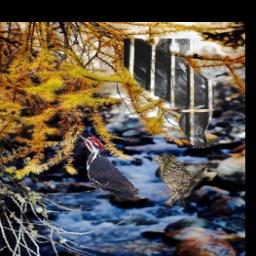Crow: (125, 39, 215, 149)
Sparrow: (153, 151, 208, 206)
Woodpecker: (75, 133, 141, 197)
